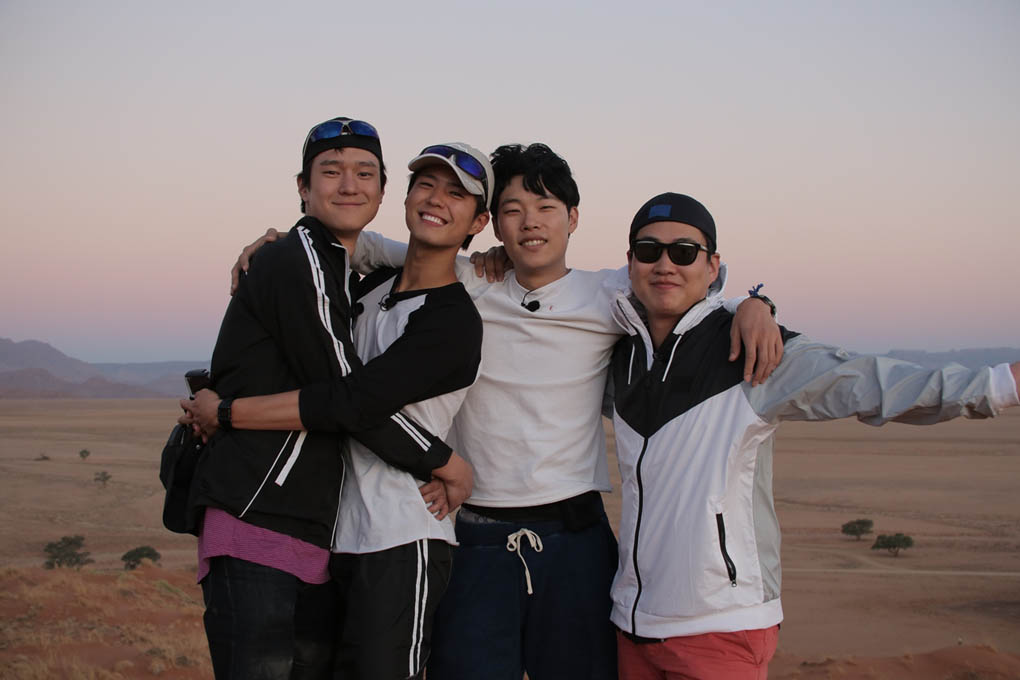people: (207, 121, 394, 680), (617, 186, 795, 680), (471, 146, 620, 680), (358, 144, 491, 680)
